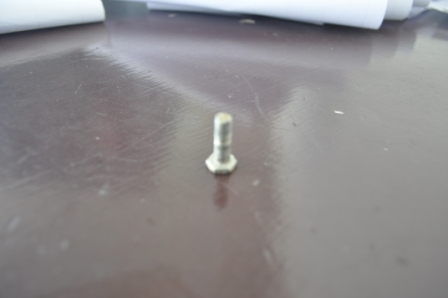NUT (MT): (205, 109, 240, 176)
